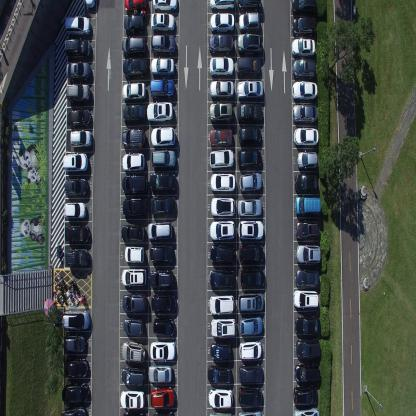car: (122, 55, 148, 80), (148, 171, 177, 193), (150, 340, 176, 364), (237, 219, 264, 242), (64, 15, 91, 38), (146, 101, 174, 123), (61, 381, 90, 402), (121, 340, 146, 364), (237, 32, 262, 56), (209, 244, 235, 267), (209, 219, 235, 242), (295, 339, 321, 362), (122, 196, 148, 219), (295, 195, 321, 218), (150, 126, 176, 149), (236, 101, 262, 124), (62, 151, 88, 174), (149, 77, 175, 100), (293, 125, 319, 148), (209, 316, 236, 338), (64, 38, 91, 60), (236, 79, 264, 100), (65, 224, 90, 247), (208, 386, 233, 409), (209, 147, 234, 170), (237, 147, 262, 170), (209, 101, 234, 124), (121, 127, 146, 150), (148, 268, 174, 290), (238, 292, 264, 314), (209, 294, 235, 316), (294, 316, 320, 338), (292, 290, 318, 312), (122, 174, 148, 196), (66, 82, 92, 104), (292, 79, 318, 101), (150, 33, 176, 55), (294, 172, 318, 195), (147, 363, 172, 385), (150, 386, 175, 408), (151, 148, 176, 170), (209, 78, 234, 100), (292, 103, 317, 125), (236, 56, 261, 78), (239, 268, 265, 289), (294, 364, 320, 385), (295, 220, 321, 241), (208, 268, 235, 288), (62, 311, 90, 330), (211, 196, 235, 218), (294, 386, 318, 408), (296, 245, 320, 267), (238, 125, 262, 147), (291, 36, 315, 58), (151, 11, 175, 33), (210, 12, 234, 34), (63, 358, 88, 379), (238, 364, 263, 385), (210, 171, 235, 192), (66, 107, 91, 128), (150, 56, 175, 77), (208, 33, 233, 54), (150, 292, 176, 312), (150, 195, 176, 215), (146, 221, 172, 241), (66, 61, 92, 81), (63, 333, 85, 356), (239, 171, 262, 193), (69, 128, 92, 150), (122, 293, 146, 314), (207, 364, 231, 385), (152, 316, 176, 337), (238, 386, 262, 407), (210, 56, 234, 77), (237, 198, 262, 218), (119, 389, 144, 409), (63, 177, 88, 197), (292, 16, 317, 36), (121, 268, 147, 287), (238, 10, 260, 32), (66, 249, 89, 270), (209, 341, 232, 362), (150, 245, 174, 265), (239, 244, 263, 264), (239, 316, 263, 336), (122, 366, 146, 386), (121, 152, 145, 172), (292, 58, 316, 78), (296, 149, 318, 170), (209, 127, 232, 147), (123, 104, 146, 124), (121, 225, 145, 244), (295, 270, 319, 289), (238, 341, 262, 360), (122, 82, 146, 101), (121, 35, 145, 54), (122, 15, 146, 34), (124, 245, 145, 266), (64, 200, 87, 219), (290, 0, 318, 15), (124, 316, 144, 336), (123, 0, 148, 14), (152, 0, 178, 13), (236, 0, 262, 11), (61, 405, 88, 415), (209, 0, 235, 10), (293, 408, 320, 416), (237, 409, 262, 415), (84, 0, 96, 12), (208, 410, 233, 415), (152, 410, 176, 415), (122, 411, 145, 415)
